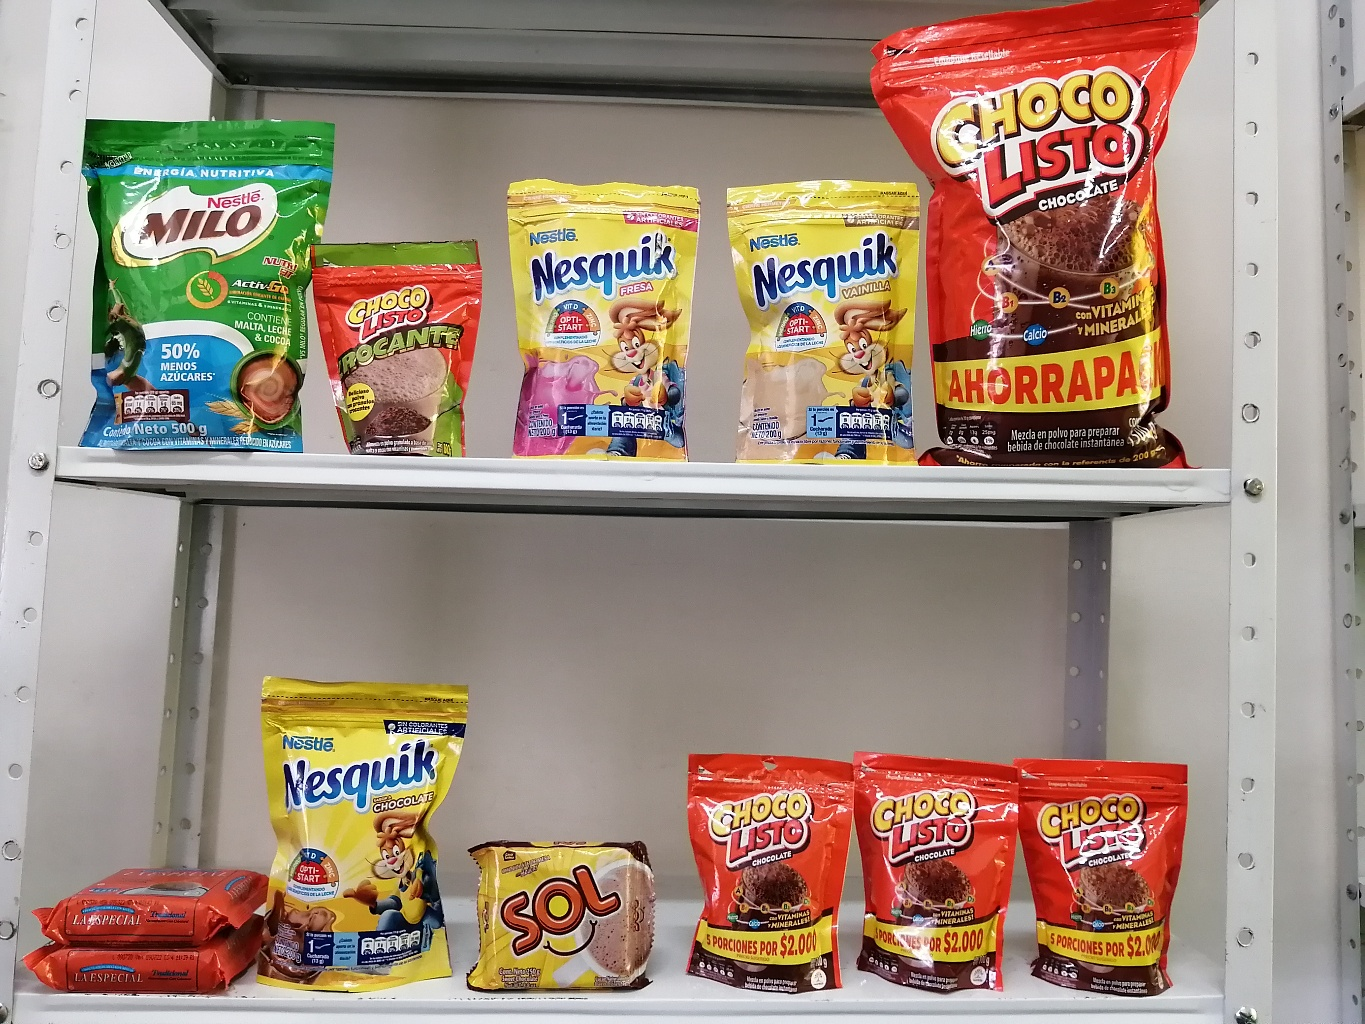COL0170102DYP10000: (309, 243, 482, 460)
COL0170103DYP1,500: (864, 15, 1212, 470)
COL0170205DYP50000: (85, 118, 335, 456)
COL0170303DYP20000: (262, 675, 472, 994)
COL0170305DYP20000: (506, 181, 701, 463)
COL0170306DYP20000: (724, 184, 923, 467)
